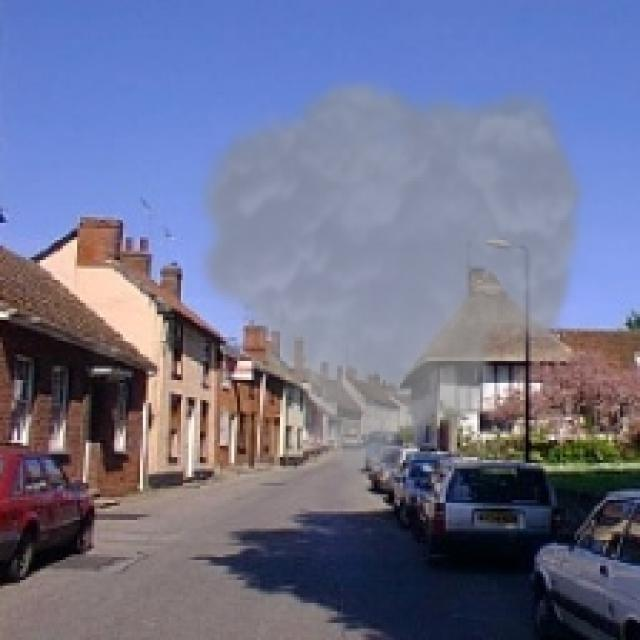Smoke: (186, 74, 592, 489)
